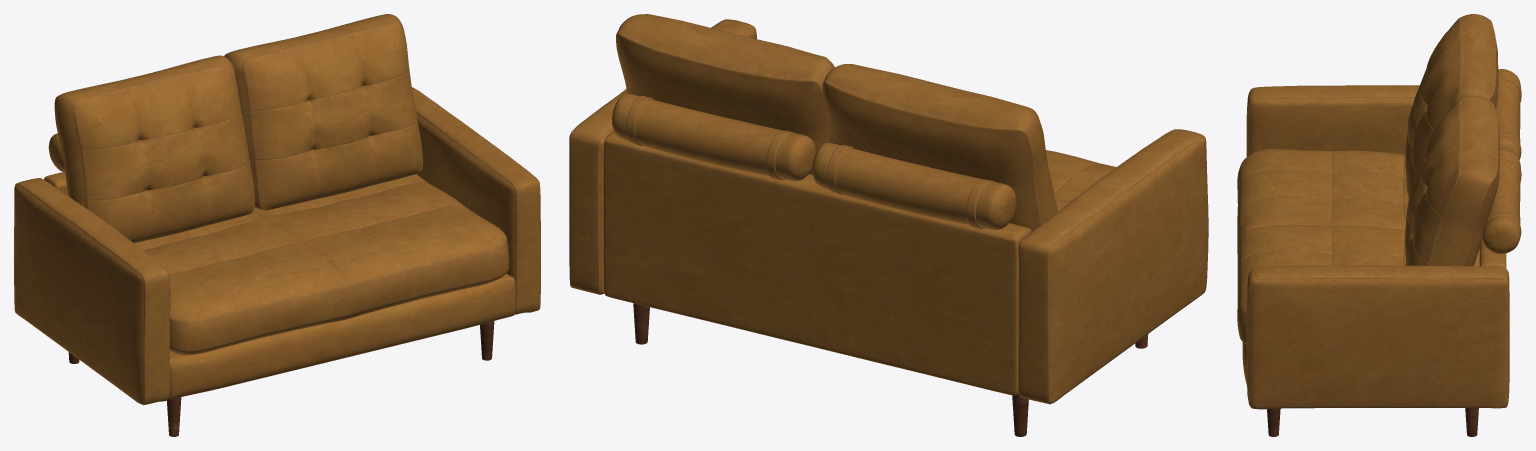
The model's file is abo-B07P6JVMJL.glb.
3 renders of one model, left to right at view 1: azimuth 30°, elevation 25°; view 2: azimuth 150°, elevation 25°; view 3: azimuth 270°, elevation 25°, orthographic. The views are drawn at different scales.
Size of the model in its own units: 1.43 by 0.898 by 0.8679.
Materials: 1 (1 with a texture image).
